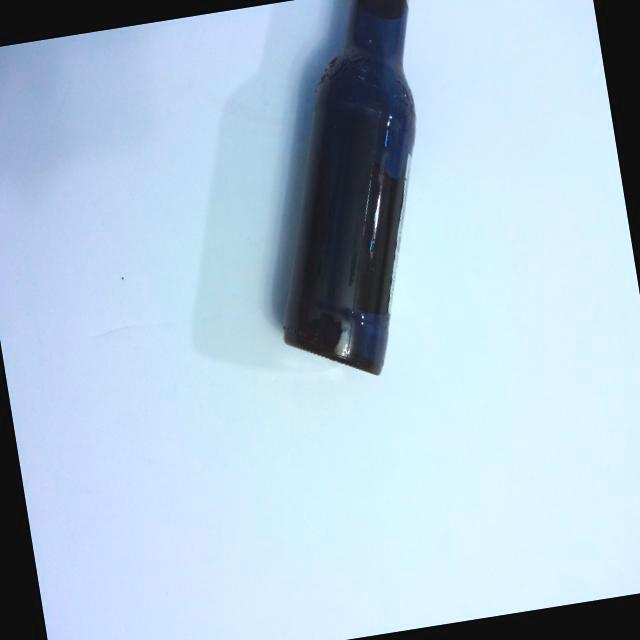glass: (225, 0, 476, 400)
